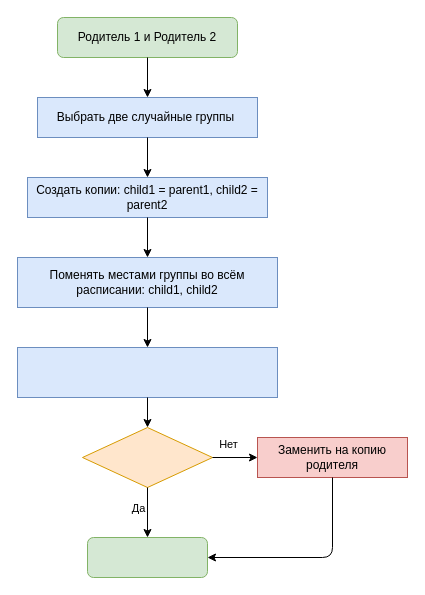
This 425x595 diagram has some shape labels left out. Here are the shapes that lost their labels. From the top down, the centre of each, then its label:
[147,372]: Ремонт (устранение конфликтов) – несколько попыток мутации в подмешанных генах
[147,457]: Жёсткие ограничения соблюдены?
[147,557]: Вернуть child1, child2
